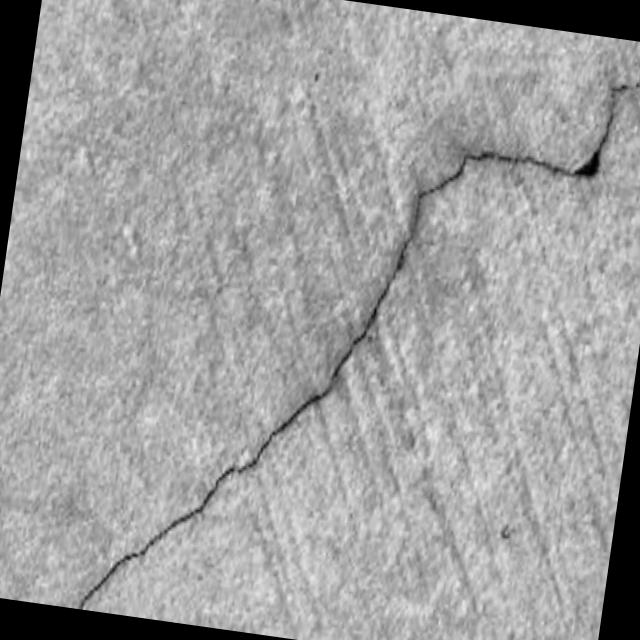crack: (76, 253, 389, 640), (386, 43, 640, 324)
